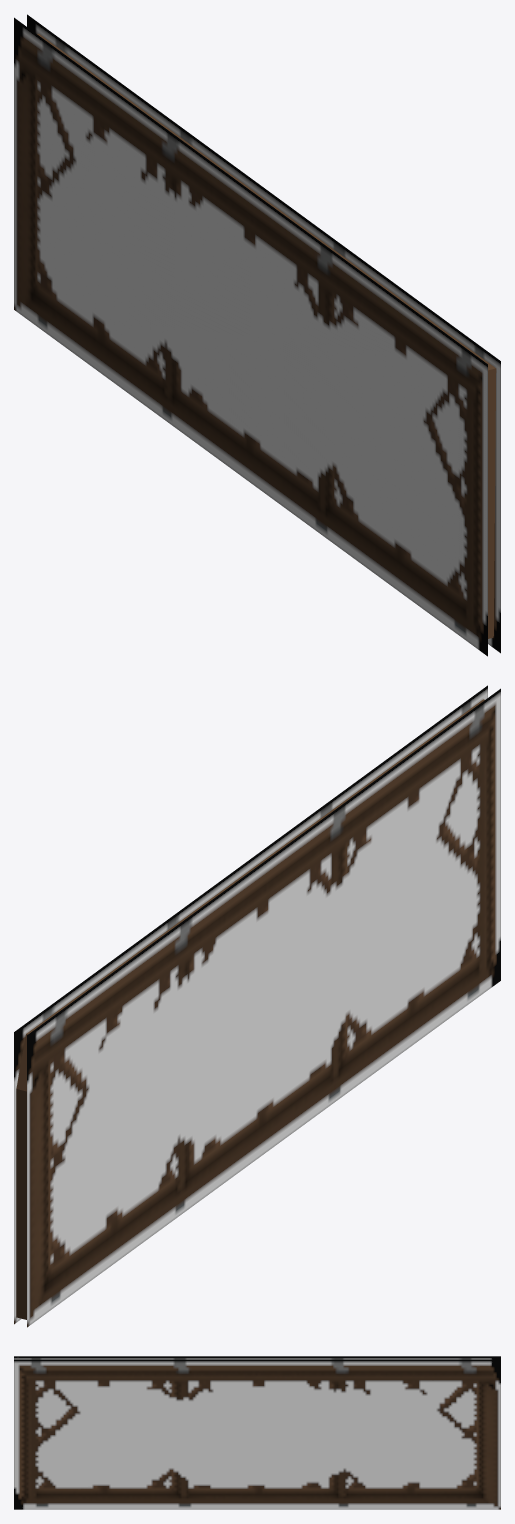
The model's file is pz_native_fixtures_windows_church_118_frame.obj.
3 renders of one model, top to bottom at view 1: azimuth 30°, elevation 25°; view 2: azimuth 150°, elevation 25°; view 3: azimuth 270°, elevation 25°, orthographic. The views are drawn at different scales.
Visible parts, largest first — view 1: pz_native_fixtures_windows_church_118_frame; view 2: pz_native_fixtures_windows_church_118_frame; view 3: pz_native_fixtures_windows_church_118_frame.
Boxes of the visible parts, <box> form: pz_native_fixtures_windows_church_118_frame: <box>14,14,500,656</box>; pz_native_fixtures_windows_church_118_frame: <box>14,685,500,1327</box>; pz_native_fixtures_windows_church_118_frame: <box>14,1356,500,1509</box>.
Bounding box in the file's own units: 0.04 × 0.8594 × 2.53.
1 material, 1 textured.
